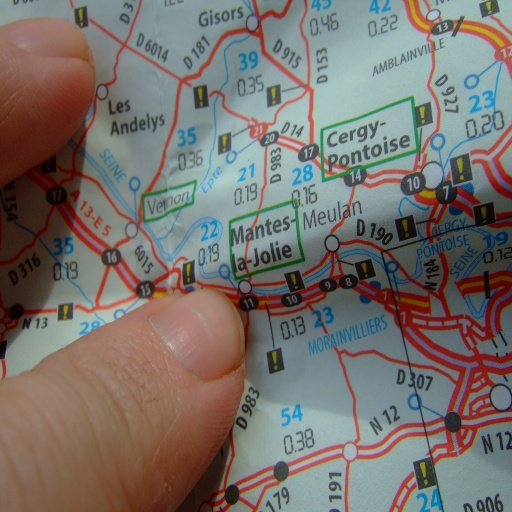hand: (0, 15, 246, 511)
